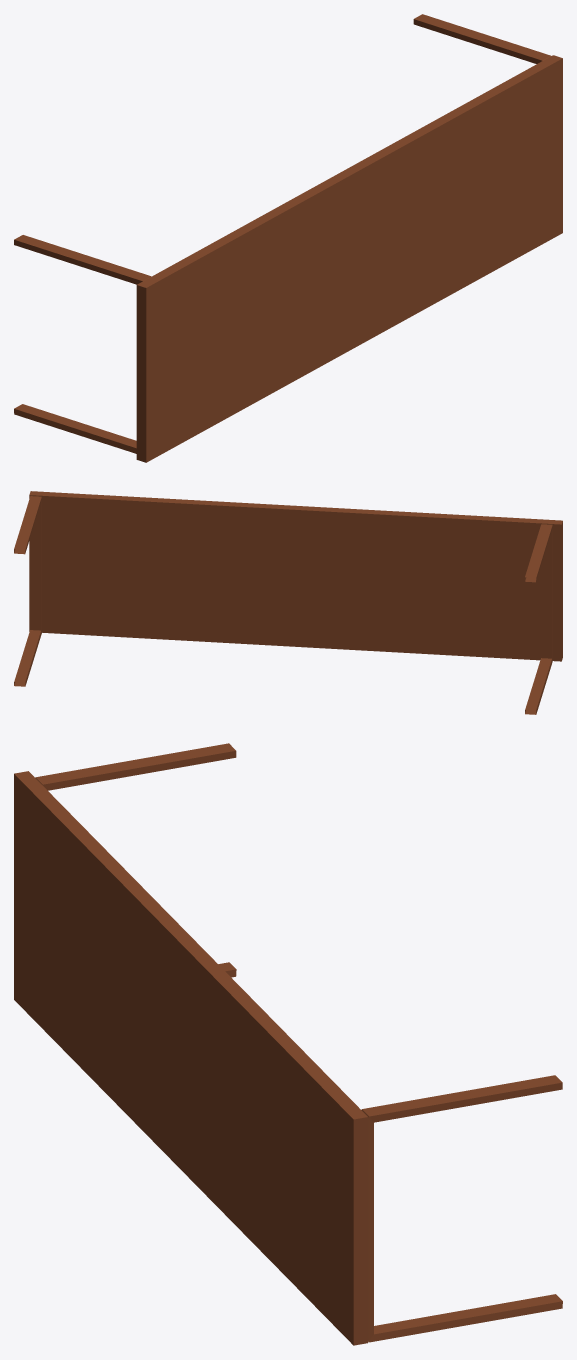
Rendered from NormalTable.fbx.
3 views of the same model, one above another, from view 1: azimuth 30°, elevation 25°; view 2: azimuth 150°, elevation 25°; view 3: azimuth 270°, elevation 25° (orthographic). The views are drawn at different scales.
Parts seen in each view (by area): view 1: Cube.087; view 2: Cube.087; view 3: Cube.087.
Boxes of the visible parts, bbox=[...] form: Cube.087: bbox=[14, 14, 562, 462]; Cube.087: bbox=[14, 491, 562, 714]; Cube.087: bbox=[14, 743, 562, 1345].
Size of the model in its own units: 396 by 111 by 244.
